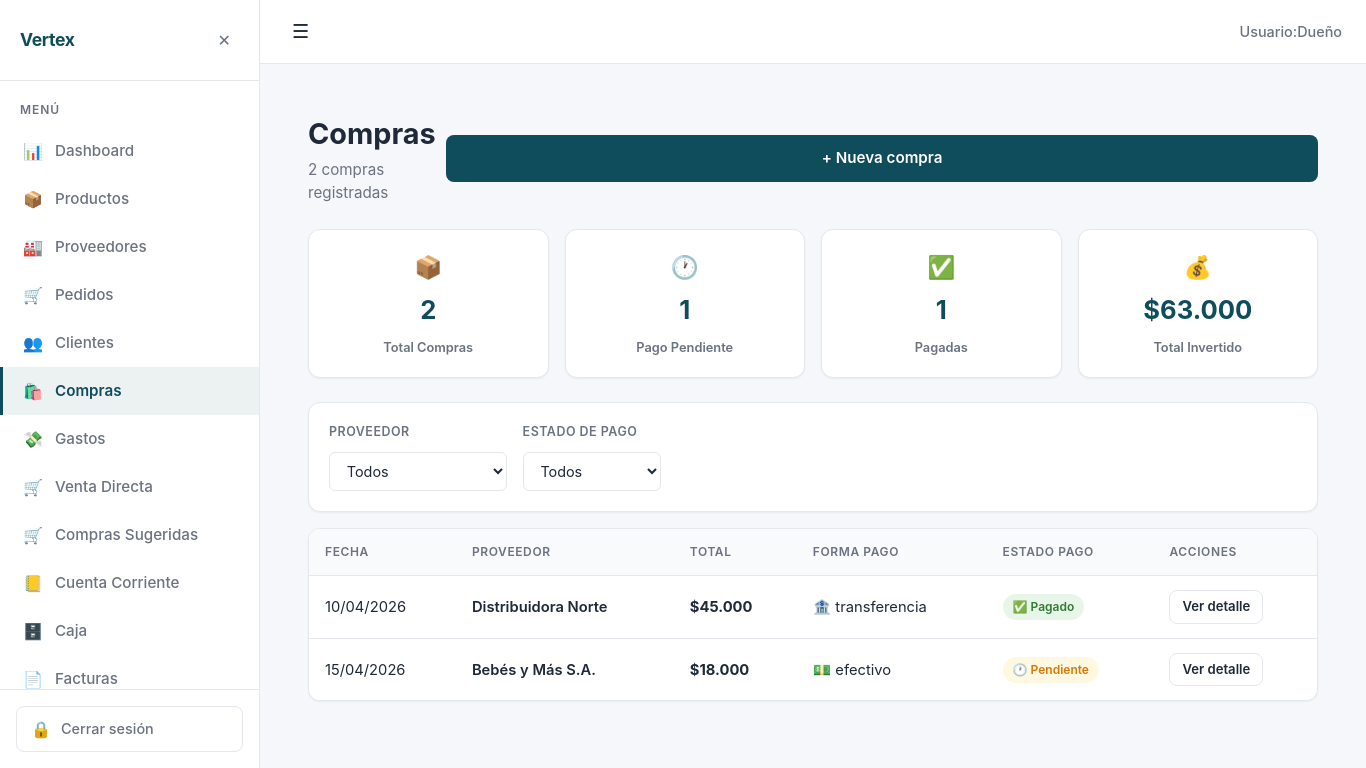
Test case: Compras › debería filtrar por proveedor
// FIX: primer select es Proveedor — valor es el id_proveedor numérico como string
Select "Bebés y Más S.A." in the 1st dropdown at (418, 473), box [329, 453, 507, 492]
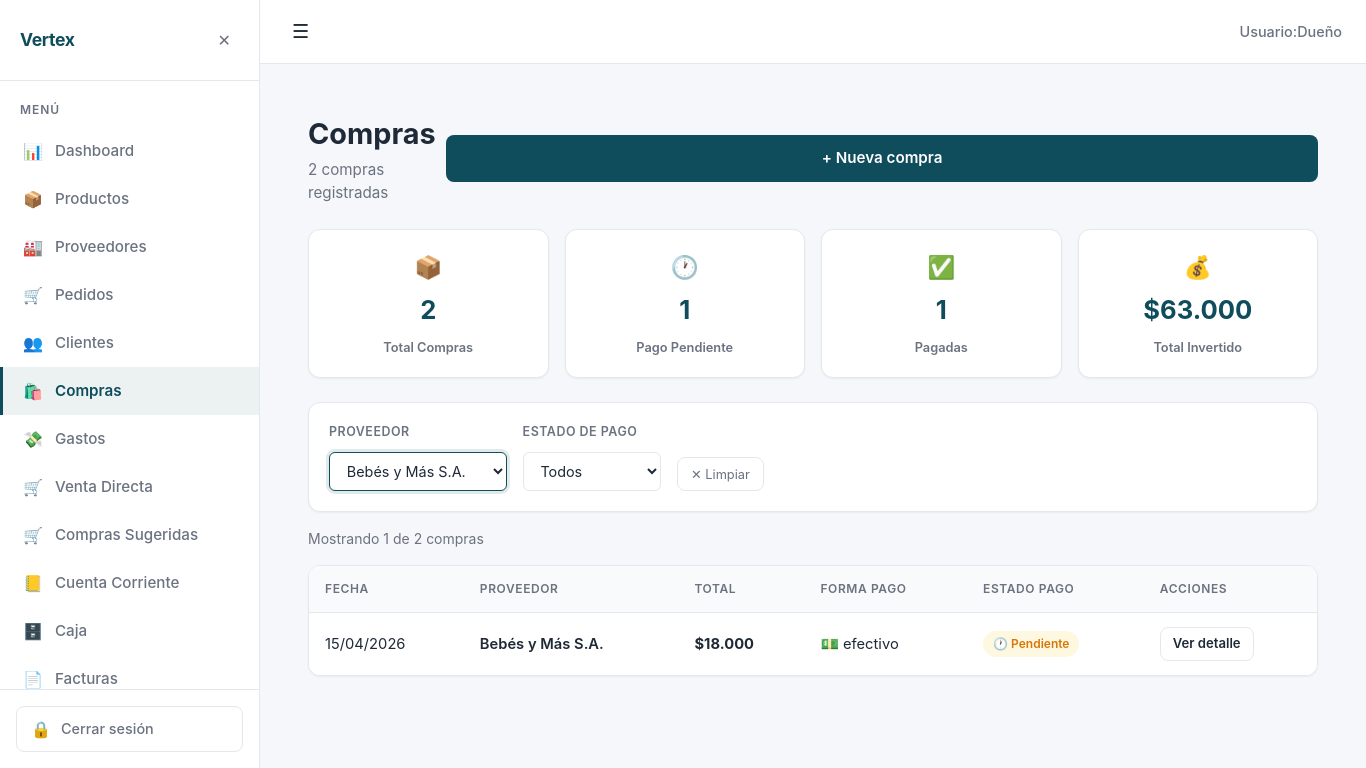
Expected: the text "Bebés y Más S.A." is shown, [480, 635, 604, 653]
Expected: the text "Distribuidora Norte" is gone
